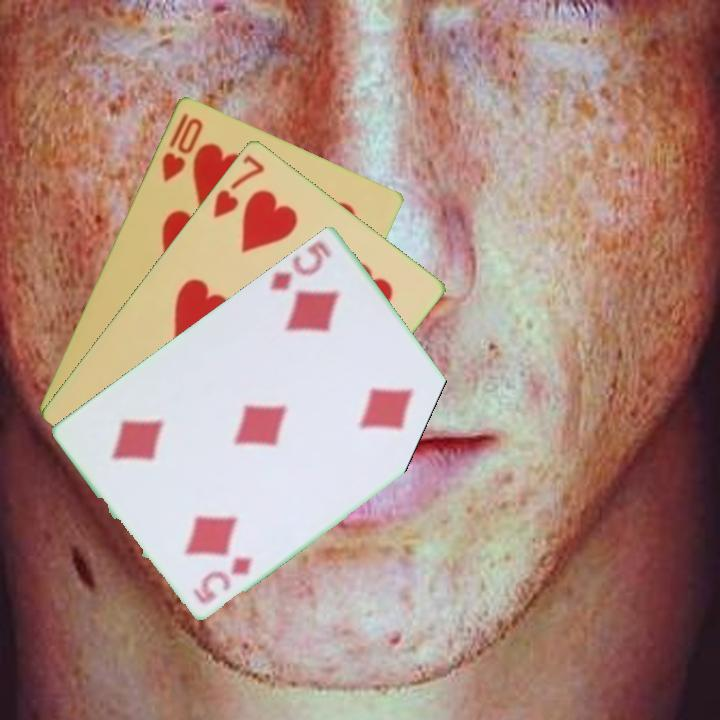10h: (157, 113, 206, 185)
5d: (266, 236, 334, 294), (189, 552, 257, 607)
7h: (209, 151, 268, 221)
